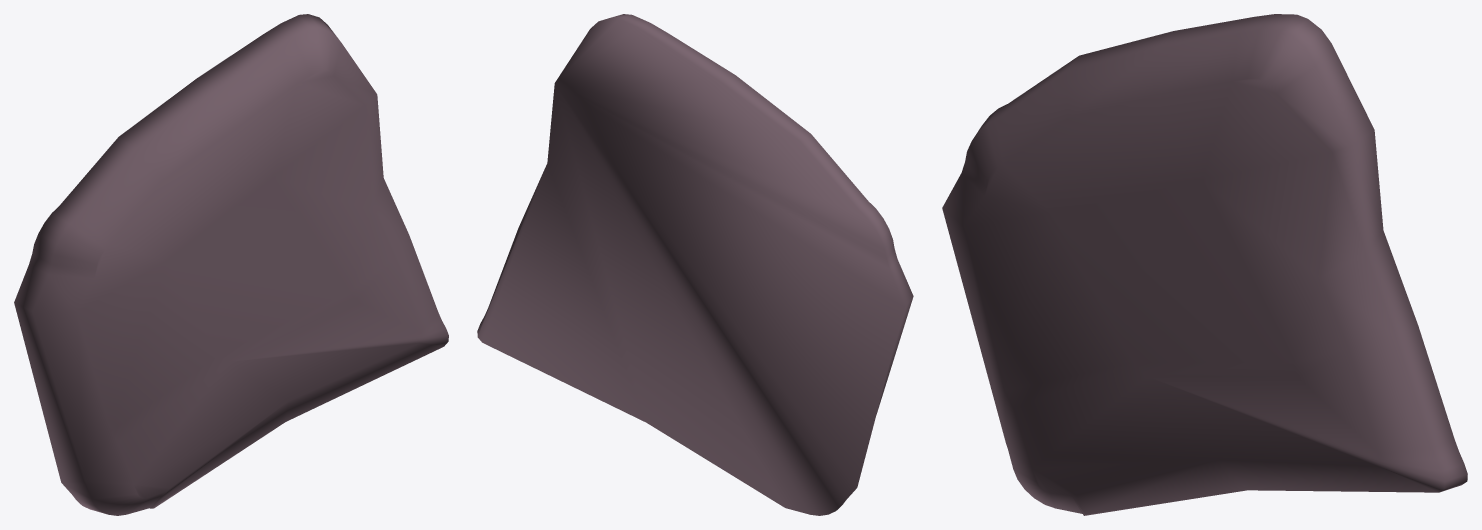
File: SM_Rock_005_1.fbx
3 renders of one model, left to right at view 1: azimuth 30°, elevation 25°; view 2: azimuth 150°, elevation 25°; view 3: azimuth 330°, elevation 25°, orthographic. The views are drawn at different scales.
Visible parts, largest first — view 1: SM_Rock_004_1; view 2: SM_Rock_004_1; view 3: SM_Rock_004_1.
Boxes of the visible parts, x1,y1,x2,y2 form: SM_Rock_004_1: (14,14,448,515); SM_Rock_004_1: (477,14,913,515); SM_Rock_004_1: (942,14,1467,515).
Size of the model in its own units: 127 by 884 by 889.
